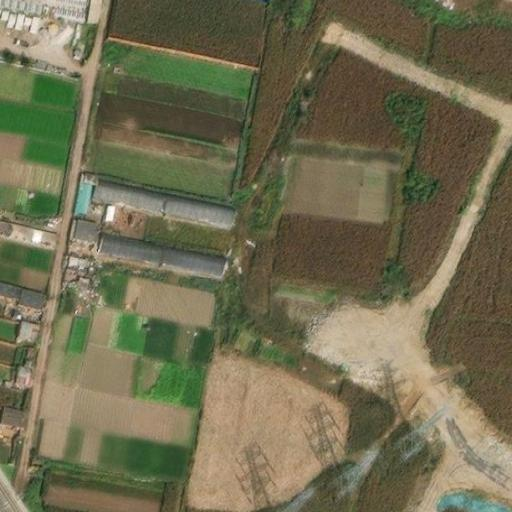building: (94, 230, 227, 279), (0, 216, 57, 251), (0, 273, 44, 298), (74, 165, 98, 206), (72, 210, 97, 238), (17, 313, 40, 337), (11, 363, 31, 389), (100, 201, 119, 222), (88, 0, 103, 15)
